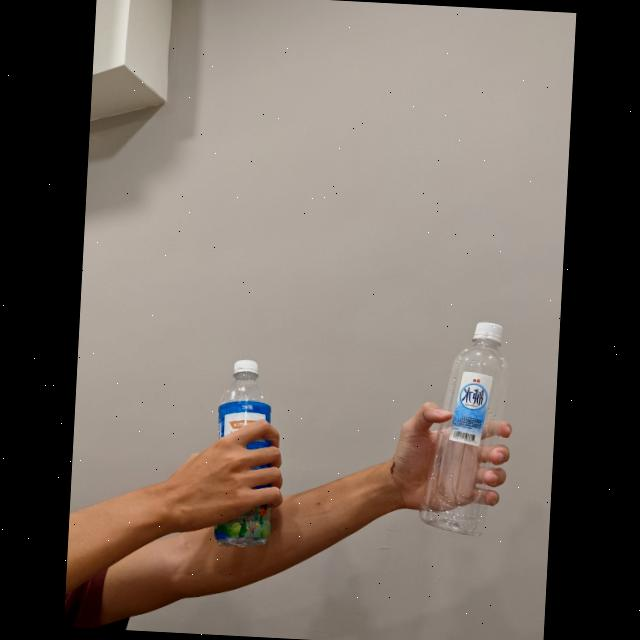trash: (414, 315, 516, 539), (204, 356, 284, 552)
